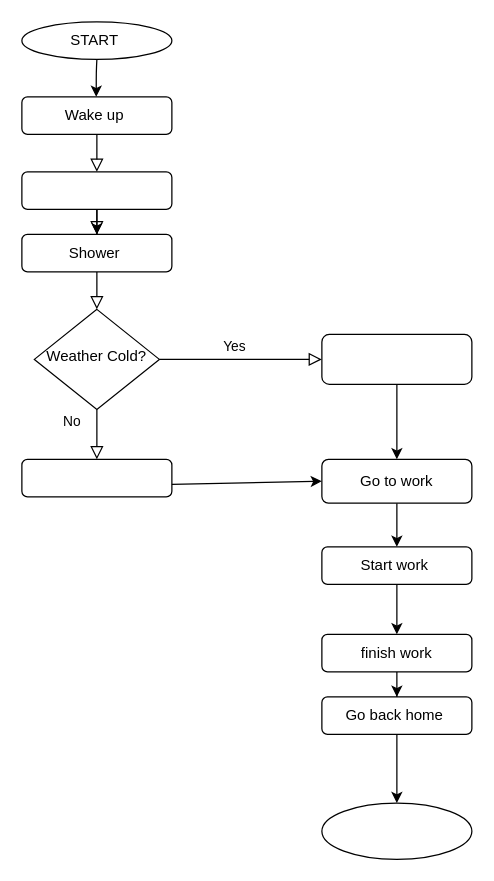
Image size: 494x881. Some labels were removed from this diagram. Each missing label, with the box of its shape:
Dress Casually: (21, 458, 172, 497)
Dress with Coat: (321, 333, 472, 384)
END: (321, 802, 472, 859)
Take breakfast: (21, 171, 172, 209)
